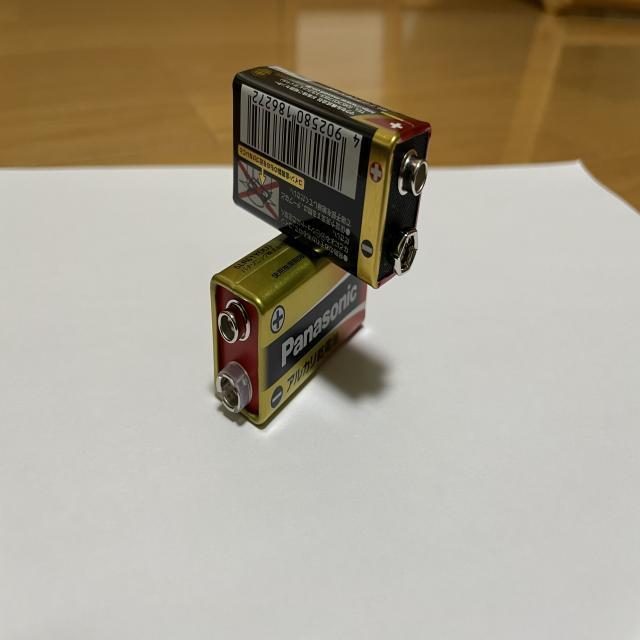9V: (232, 64, 432, 289), (210, 230, 367, 429)
